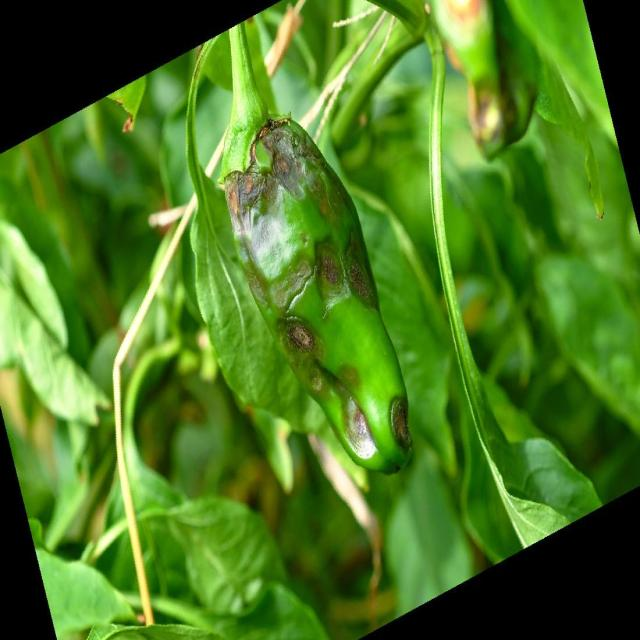Moko: (210, 128, 424, 492), (276, 322, 372, 454), (371, 339, 415, 462), (309, 227, 355, 317)
